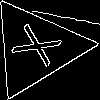X: (11, 22, 72, 73)
